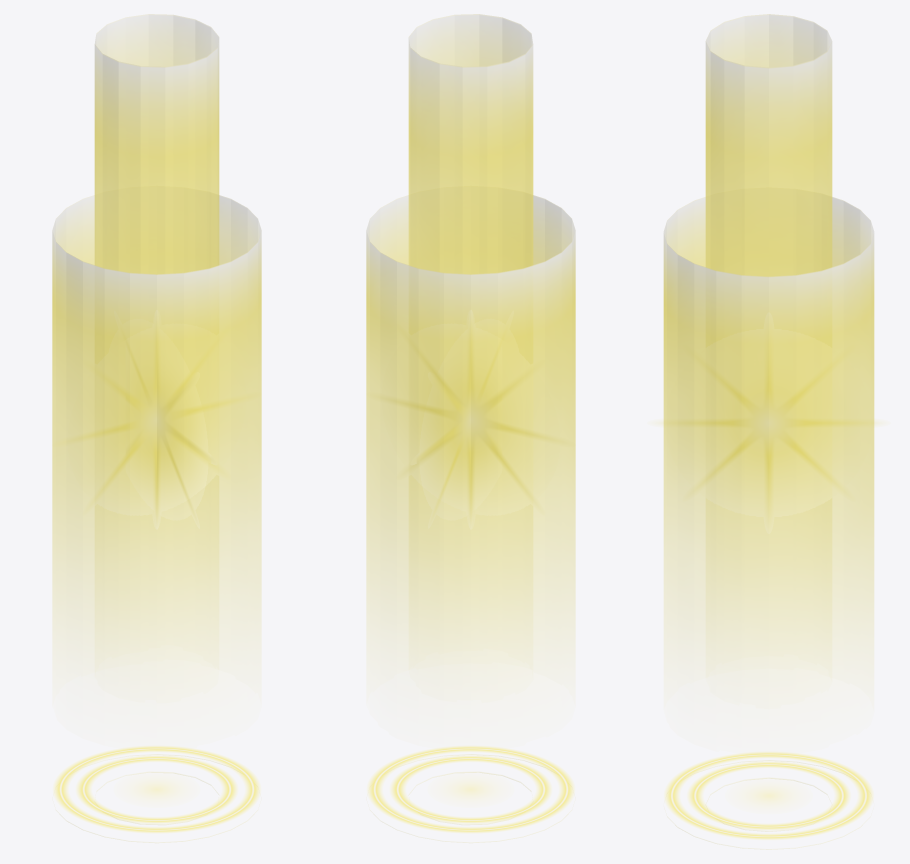
File: fx_up_beam.glb
3 views of the same model, side by side, from view 1: azimuth 30°, elevation 25°; view 2: azimuth 150°, elevation 25°; view 3: azimuth 270°, elevation 25° (orthographic).
Visible parts, largest first — view 1: fx_up_pillar, fx_up_star, fx_up_ring; view 2: fx_up_pillar, fx_up_star, fx_up_ring; view 3: fx_up_pillar, fx_up_star, fx_up_ring.
Boxes of the visible parts, x1,y1,x2,y2 form: fx_up_pillar: (52,14,261,842); fx_up_star: (64,347,239,517); fx_up_ring: (54,746,259,832); fx_up_pillar: (366,14,575,842); fx_up_star: (387,342,563,516); fx_up_ring: (368,746,573,832); fx_up_pillar: (663,14,874,849); fx_up_star: (661,352,876,510); fx_up_ring: (665,752,872,839).
Size of the model in its own units: 1.2 by 4 by 1.2.
3 materials, 3 textured.
